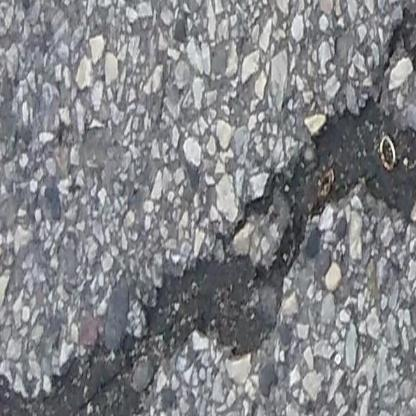Cracks: (0, 90, 416, 416), (386, 7, 416, 83)
